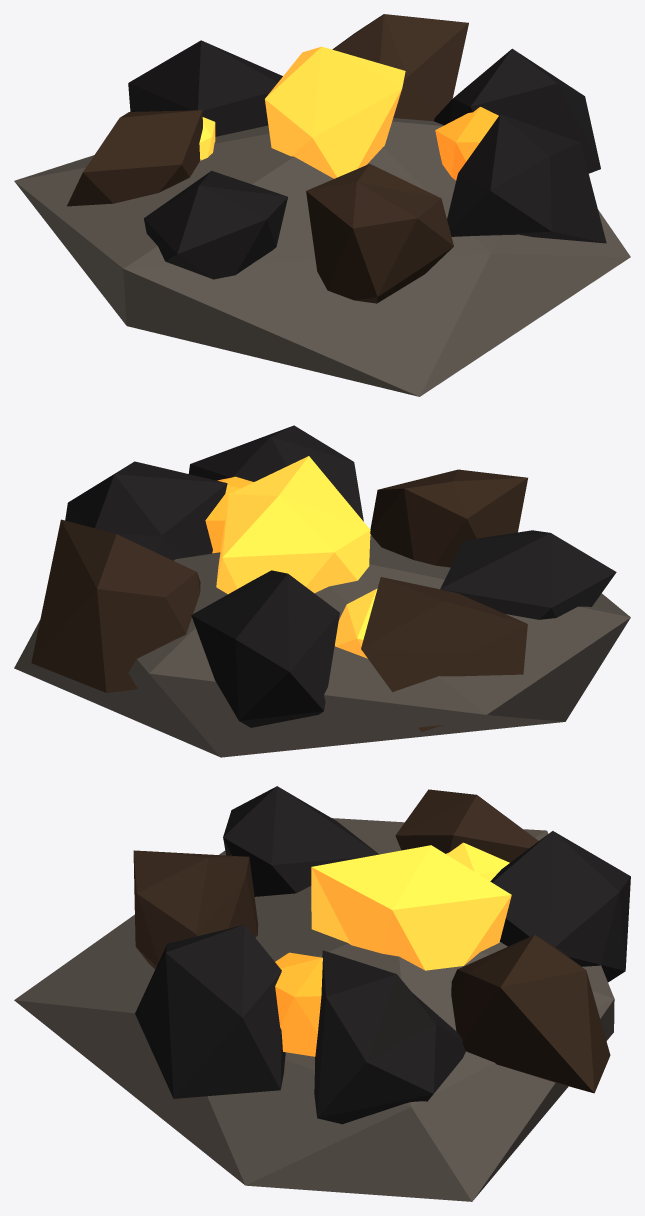
Rendered from decor_embers.glb.
3 views of the same model, one above another, from view 1: azimuth 30°, elevation 25°; view 2: azimuth 150°, elevation 25°; view 3: azimuth 270°, elevation 25° (orthographic). The views are drawn at different scales.
Parts seen in each view (by area): view 1: decor_embers; view 2: decor_embers; view 3: decor_embers.
Part boxes in pixels (left/top/right/bottom): decor_embers: left=14, top=14, right=630, bottom=396; decor_embers: left=14, top=425, right=630, bottom=757; decor_embers: left=14, top=786, right=630, bottom=1201.
Size of the model in its own units: 0.944 by 0.4525 by 0.911.
